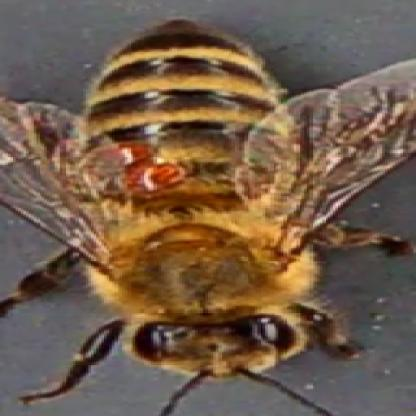bee: (63, 17, 333, 382)
vaoora: (148, 166, 184, 188), (101, 146, 150, 162)
